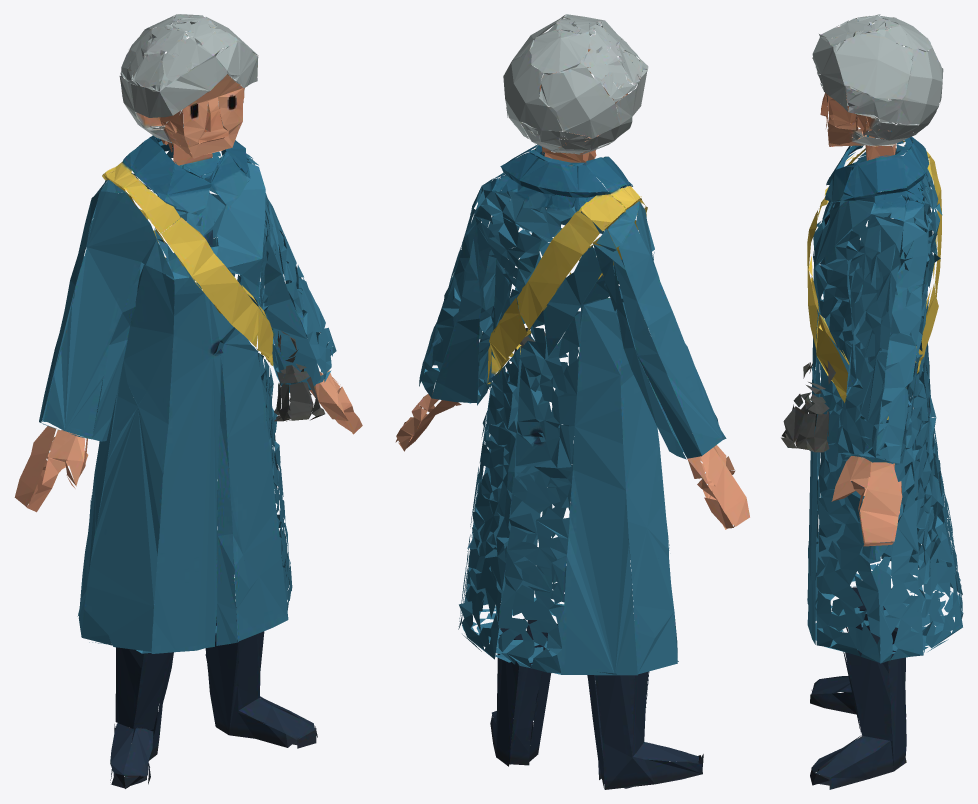
File: habitant.glb
3 views of the same model, side by side, from view 1: azimuth 30°, elevation 25°; view 2: azimuth 150°, elevation 25°; view 3: azimuth 270°, elevation 25° (orthographic). The views are drawn at different scales.
Visible parts, largest first — view 1: world; view 2: world; view 3: world.
Part boxes in pixels (x1,y1,x2,y2): world: [14, 14, 362, 788]; world: [395, 14, 749, 789]; world: [781, 14, 963, 789].
Bounding box in the file's own units: 0.4877 × 1.01 × 0.2335.
Materials: 1 (1 with a texture image).
